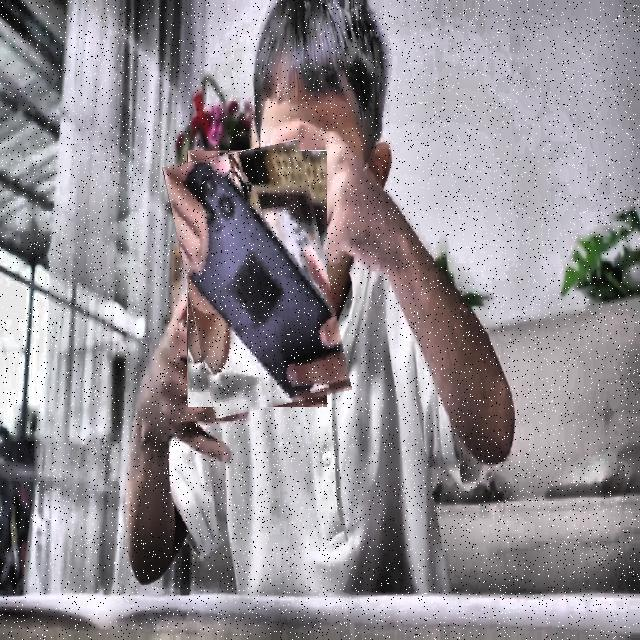Phone: (174, 144, 340, 413)
